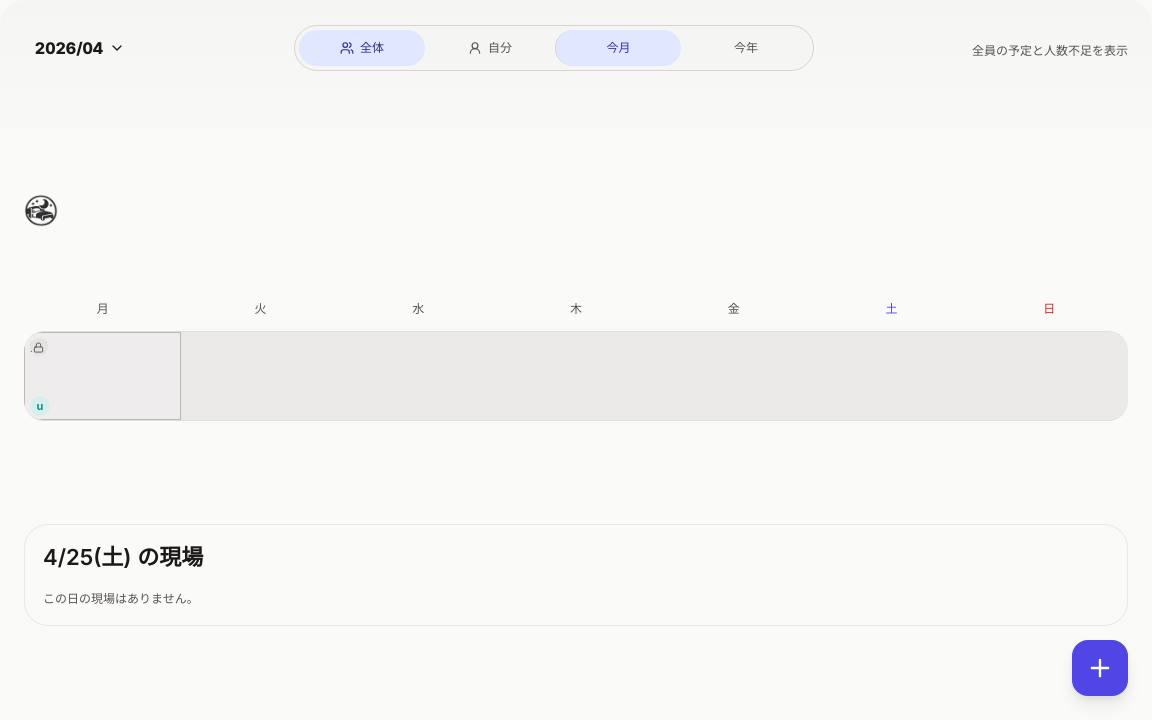
Scenario: Calendar page › clears a persisted leave schedule from the personal availability panel
The image size is (1152, 720).
Click the button "自分" at (490, 48), box top-left (427, 30), bottom-right (553, 66)
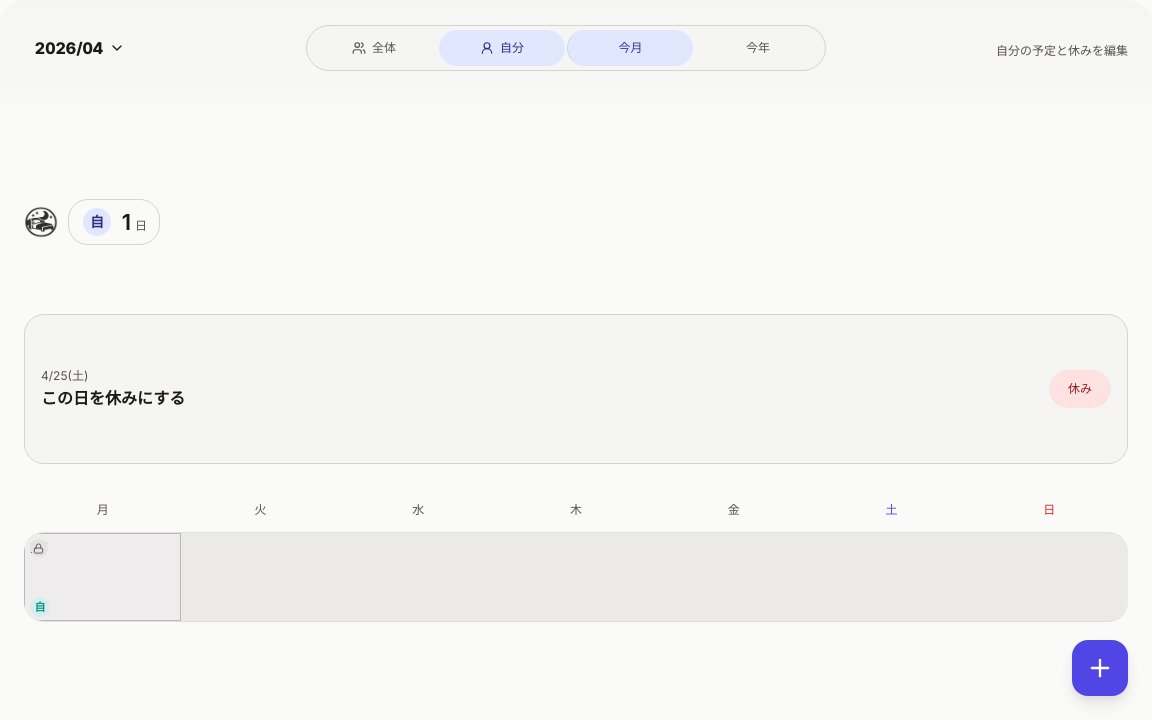
Click the switch labelled "休み" at (1080, 389), box top-left (1049, 370), bottom-right (1111, 408)
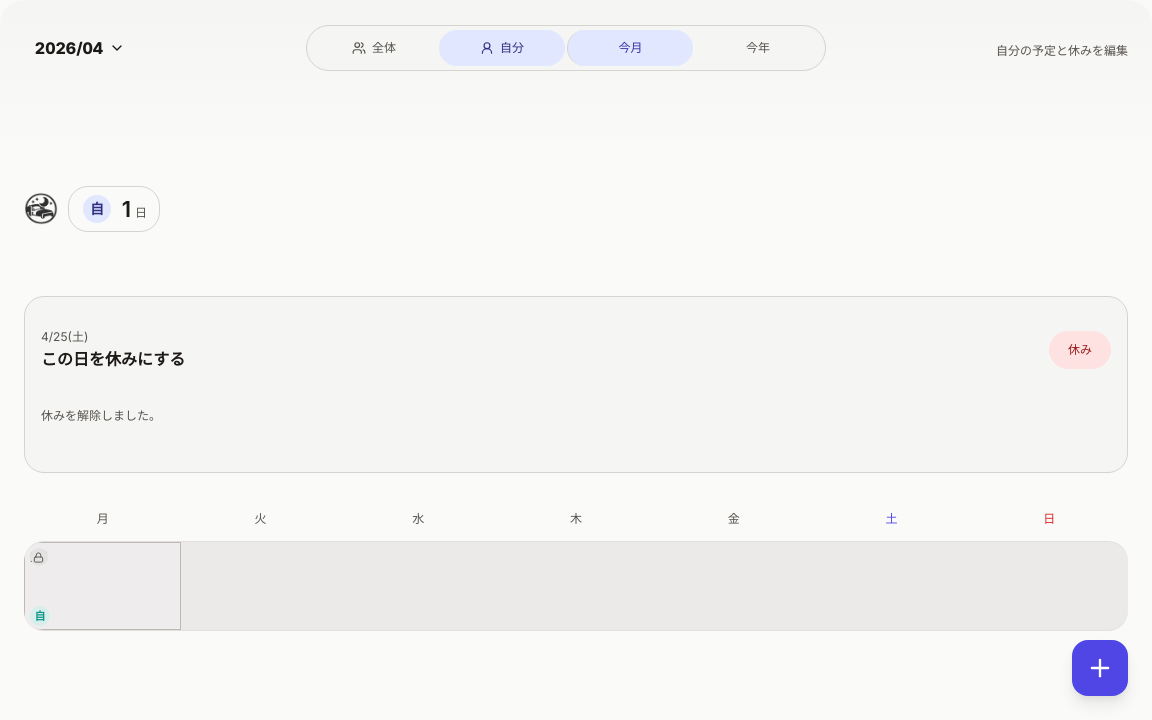
Expected: the text "休みを解除しました。" is shown, top-left (41, 408), bottom-right (161, 422)
